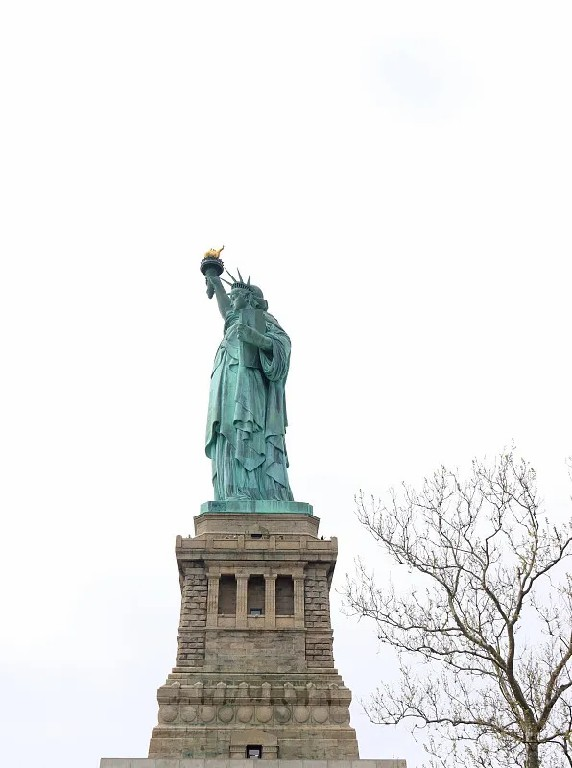SL: (147, 243, 361, 759)
